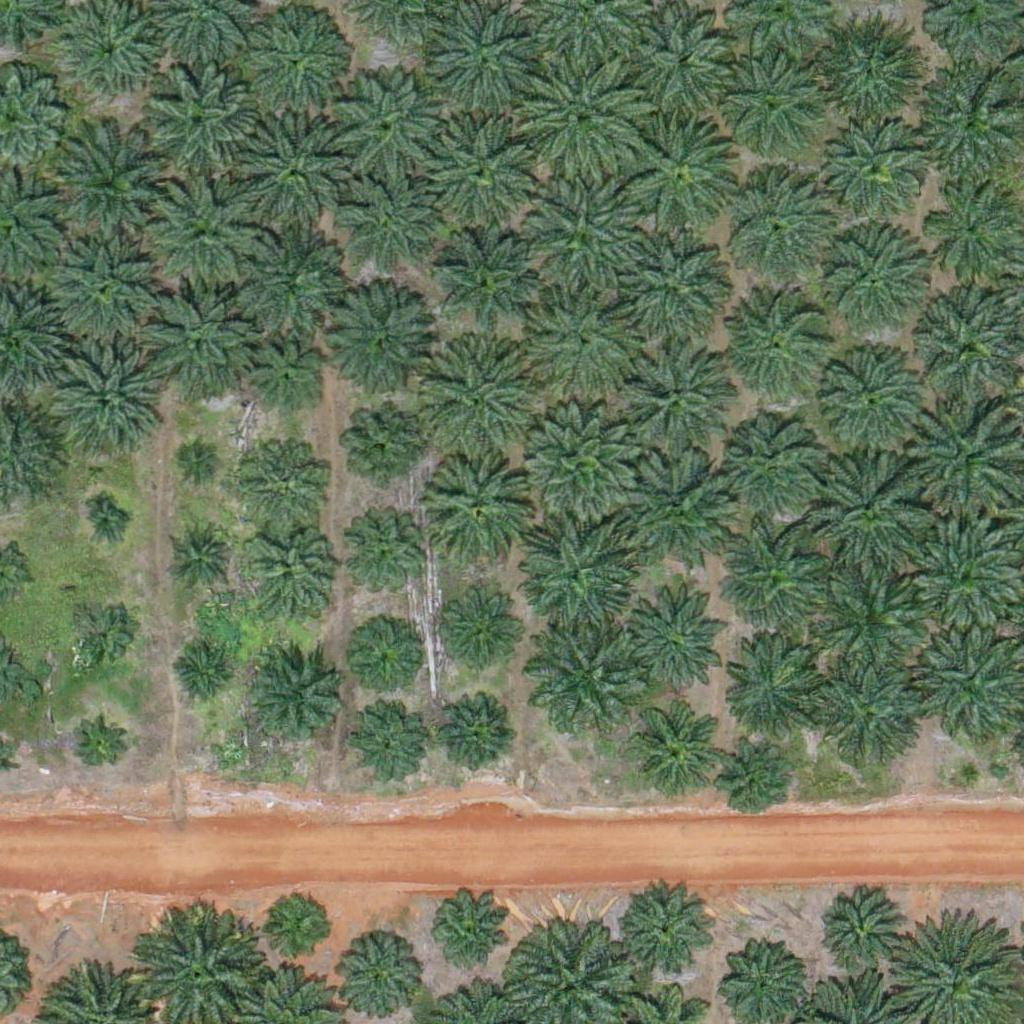Kelapa_Sawit: (52, 123, 177, 249), (519, 50, 644, 175), (47, 231, 160, 345), (813, 663, 926, 776), (815, 560, 928, 673), (819, 448, 932, 561), (718, 169, 831, 282), (717, 514, 830, 627), (627, 119, 740, 232), (617, 224, 730, 337), (614, 342, 727, 455), (527, 616, 640, 729), (417, 448, 530, 561), (320, 288, 433, 401), (238, 116, 351, 229), (224, 217, 337, 330), (45, 340, 158, 453), (713, 46, 826, 159), (627, 5, 740, 118), (335, 68, 448, 181), (138, 277, 250, 391), (908, 60, 1020, 174), (813, 11, 925, 125), (820, 332, 932, 445), (816, 219, 928, 332), (623, 446, 735, 559), (619, 592, 731, 705), (526, 173, 638, 286), (524, 282, 636, 395), (522, 401, 634, 514), (518, 516, 630, 629), (420, 338, 532, 451), (149, 175, 261, 288), (424, 111, 536, 224), (144, 65, 256, 178), (617, 882, 717, 983), (731, 288, 831, 389), (722, 412, 822, 513), (723, 634, 823, 735), (434, 235, 534, 336), (243, 647, 343, 748), (246, 13, 346, 114), (922, 177, 1022, 277), (825, 118, 925, 218), (627, 704, 715, 792), (238, 438, 326, 526), (246, 532, 334, 620), (425, 890, 512, 978), (432, 585, 519, 673), (343, 182, 430, 270), (346, 408, 421, 484), (824, 899, 899, 975), (725, 947, 800, 1023), (440, 701, 515, 777), (348, 523, 423, 599), (351, 705, 426, 781), (244, 341, 319, 417), (348, 628, 411, 691), (172, 646, 235, 709), (269, 893, 332, 956), (67, 601, 130, 664), (722, 745, 785, 808), (73, 723, 123, 774), (175, 531, 225, 581), (183, 442, 221, 480), (88, 504, 125, 542)
